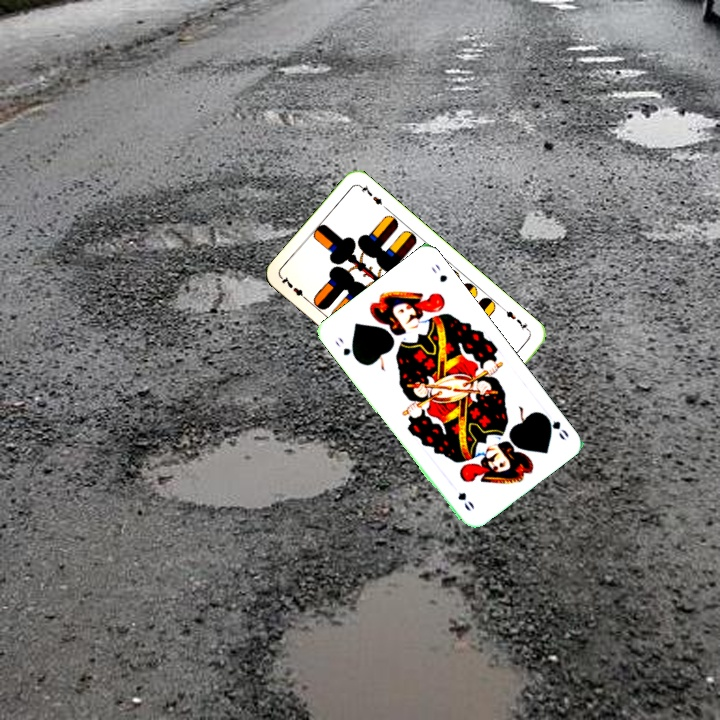E7: (499, 304, 533, 335), (277, 273, 311, 304)
GO: (538, 410, 572, 443), (331, 332, 361, 364)
